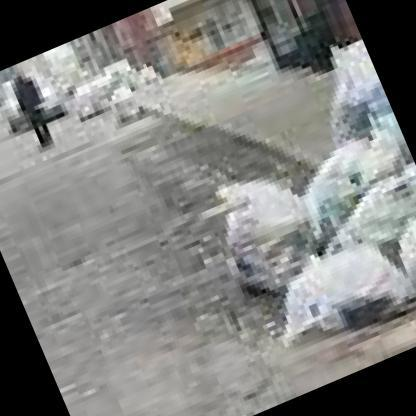Garbage: (253, 234, 415, 363), (199, 165, 341, 307), (280, 112, 414, 236), (304, 26, 402, 158), (318, 161, 415, 269), (375, 207, 415, 333), (106, 86, 144, 124), (126, 68, 162, 99)
